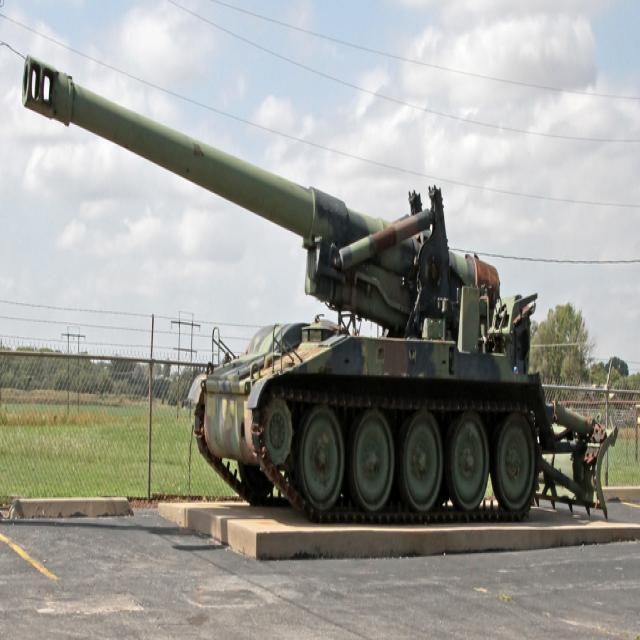tank: (21, 57, 618, 518)
